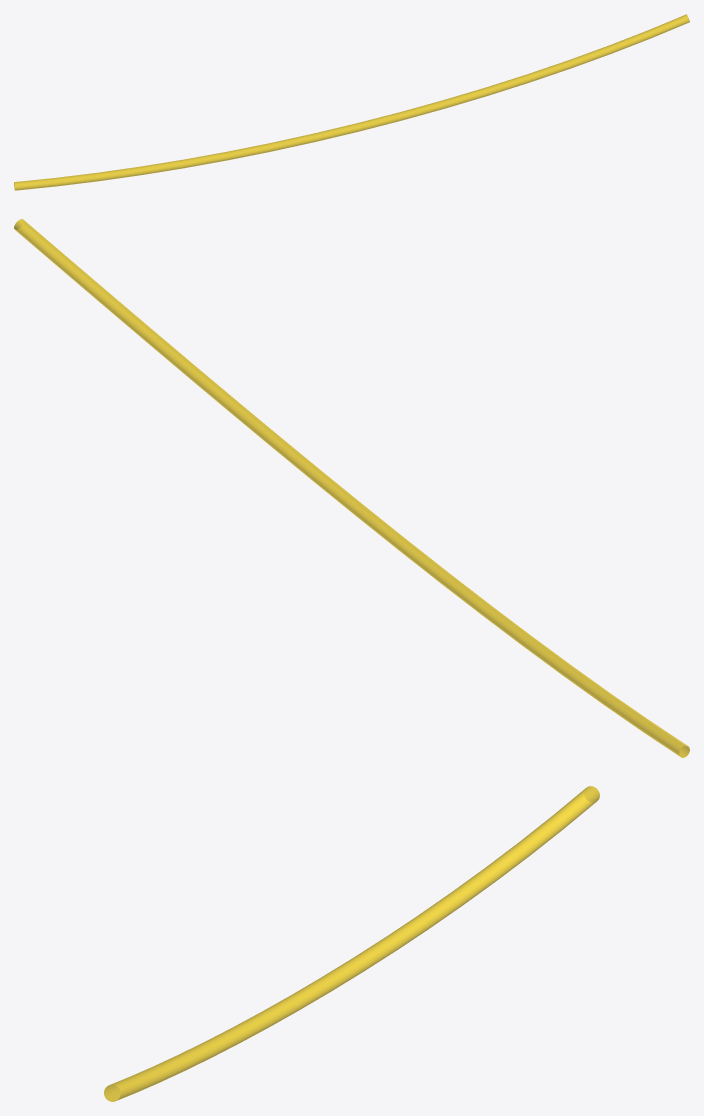
The model's file is Event_402970704_track_66.fbx.
The picture shows the model from 3 angles, top to bottom: view 1: azimuth 30°, elevation 25°; view 2: azimuth 150°, elevation 25°; view 3: azimuth 270°, elevation 25°; orthographic projection. The views are drawn at different scales.
Parts seen in each view (by area): view 1: Model; view 2: Model; view 3: Model.
Boxes of the visible parts, x1,y1,x2,y2 form: Model: (14,14,689,190); Model: (14,219,689,757); Model: (104,786,599,1101).
Size of the model in its own units: 2.95 by 0.6508 by 1.14.
